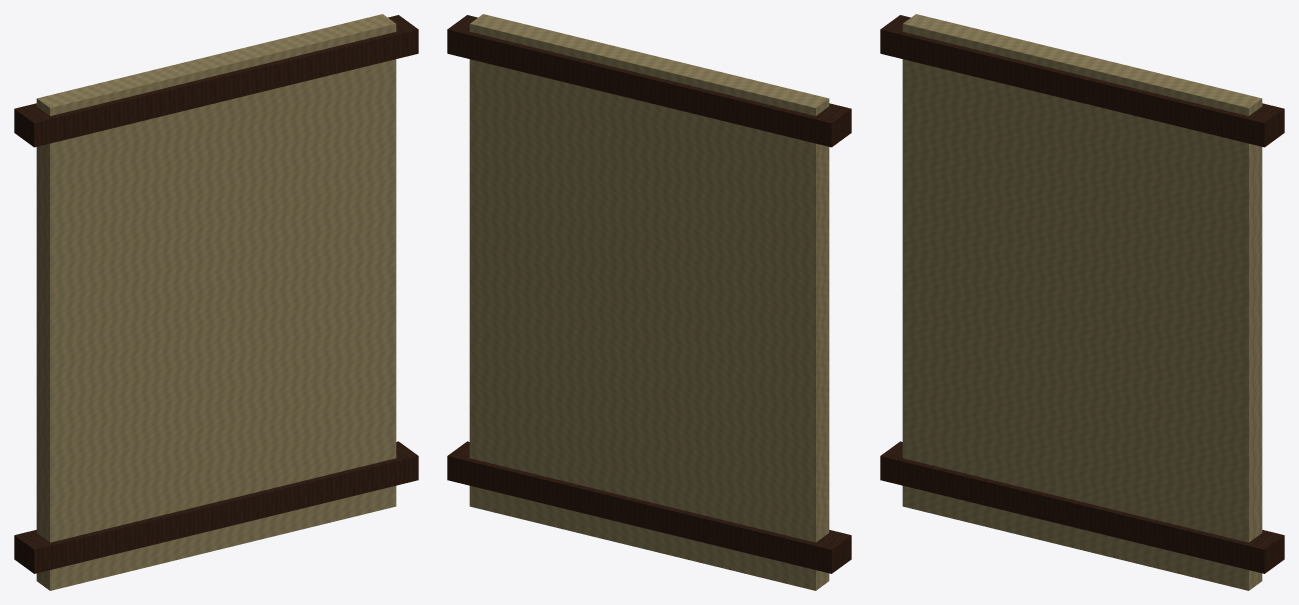
File: module_wall_plaster_2m.glb
The picture shows the model from 3 angles, left to right: view 1: azimuth 30°, elevation 25°; view 2: azimuth 150°, elevation 25°; view 3: azimuth 330°, elevation 25°; orthographic projection.
Visible parts, largest first — view 1: plaster, top_sill, bottom_sill; view 2: plaster, top_sill, bottom_sill; view 3: plaster, top_sill, bottom_sill.
Part boxes in pixels (x1=…): plaster: x1=36, y1=14, x2=396, y2=590; top_sill: x1=14, y1=15, x2=418, y2=147; bottom_sill: x1=14, y1=441, x2=418, y2=573; plaster: x1=469, y1=14, x2=829, y2=590; top_sill: x1=447, y1=15, x2=851, y2=147; bottom_sill: x1=447, y1=441, x2=851, y2=573; plaster: x1=902, y1=14, x2=1262, y2=590; top_sill: x1=880, y1=15, x2=1284, y2=147; bottom_sill: x1=880, y1=441, x2=1284, y2=573.
Size of the model in its own units: 2 by 2.4 by 0.18.
Materials: 2 (2 with a texture image).
